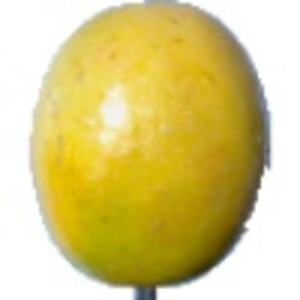maracujá: (29, 1, 274, 300)
